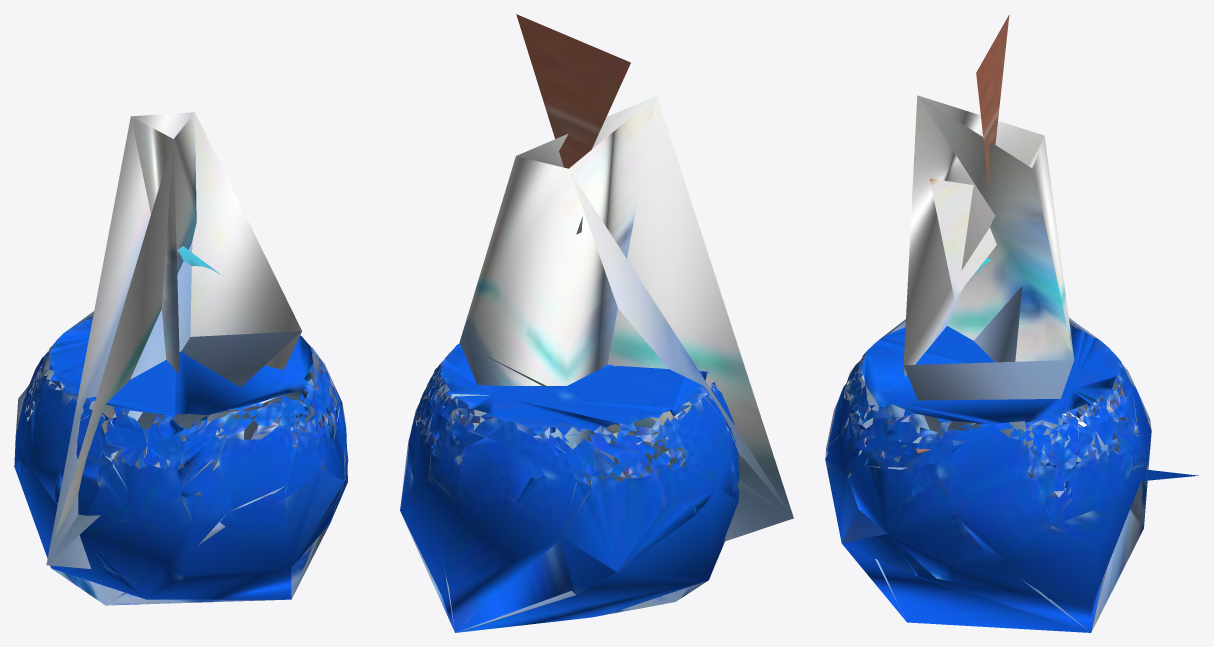
Rendered from lg-potion-blue.glb.
3 renders of one model, left to right at view 1: azimuth 30°, elevation 25°; view 2: azimuth 150°, elevation 25°; view 3: azimuth 270°, elevation 25°, orthographic. The views are drawn at different scales.
Visible parts, largest first — view 1: geometry_0; view 2: geometry_0; view 3: geometry_0.
Part boxes in pixels (x1,y1,x2,y2): geometry_0: (14,112,348,605); geometry_0: (400,14,793,632); geometry_0: (825,15,1198,632).
Size of the model in its own units: 0.5822 by 0.9896 by 0.6061.
1 material, 1 textured.
